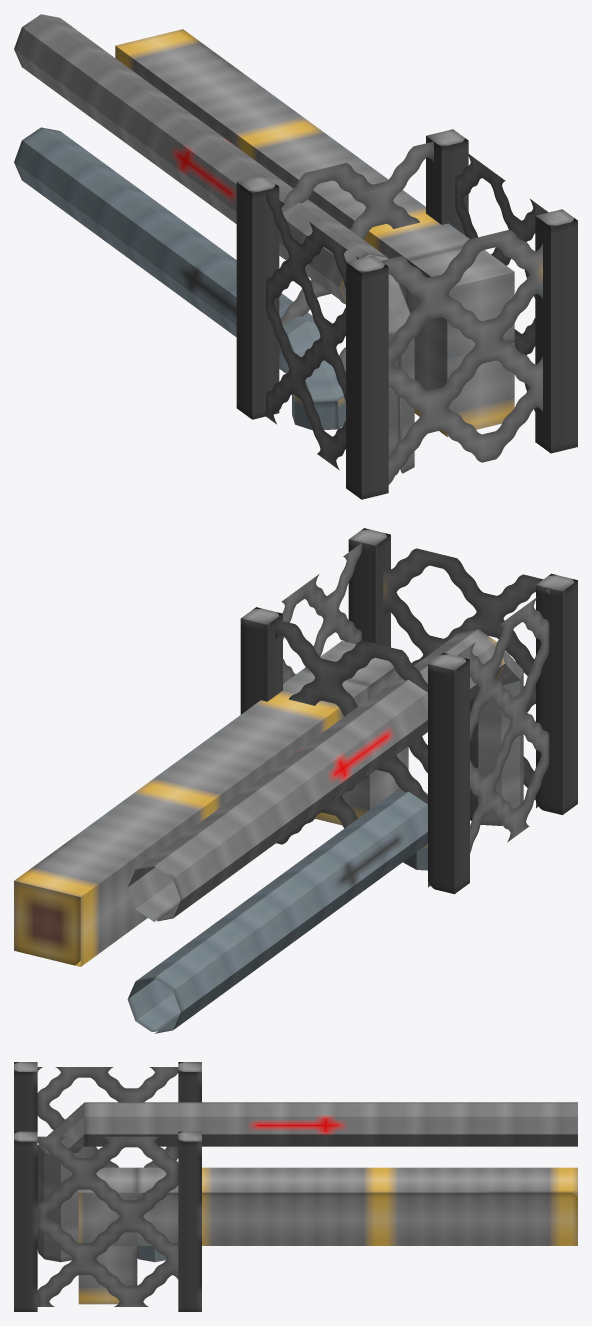
Rendered from launch_table_small_scaffold_connector.obj.
3 views of the same model, one above another, from view 1: azimuth 30°, elevation 25°; view 2: azimuth 150°, elevation 25°; view 3: azimuth 270°, elevation 25° (orthographic). The views are drawn at different scales.
Visible parts, largest first — view 1: Cube.007_Cube.008; view 2: Cube.007_Cube.008; view 3: Cube.007_Cube.008.
Boxes of the visible parts, box(x1,y1,x2,y2) form: Cube.007_Cube.008: box(14, 14, 577, 499); Cube.007_Cube.008: box(14, 528, 577, 1033); Cube.007_Cube.008: box(14, 1062, 577, 1311).
Size of the model in its own units: 1 by 1 by 3.
